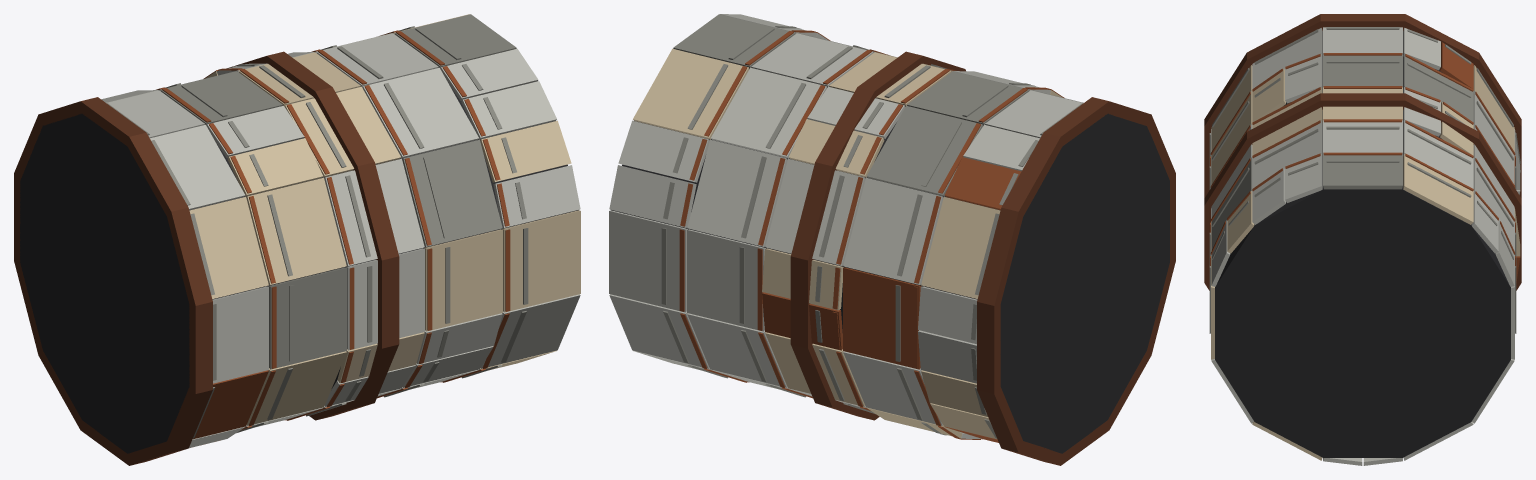
Rendered from ship_hull_ring.glb.
3 renders of one model, left to right at view 1: azimuth 30°, elevation 25°; view 2: azimuth 150°, elevation 25°; view 3: azimuth 270°, elevation 25°, orthographic. The views are drawn at different scales.
Visible parts, largest first — view 1: ship_hull_ring; view 2: ship_hull_ring; view 3: ship_hull_ring.
Part boxes in pixels (x1,y1,x2,y2): ship_hull_ring: (14,14,580,465); ship_hull_ring: (609,14,1175,465); ship_hull_ring: (1204,14,1521,465).
Bounding box in the file's own units: 45 × 36.32 × 36.32.
